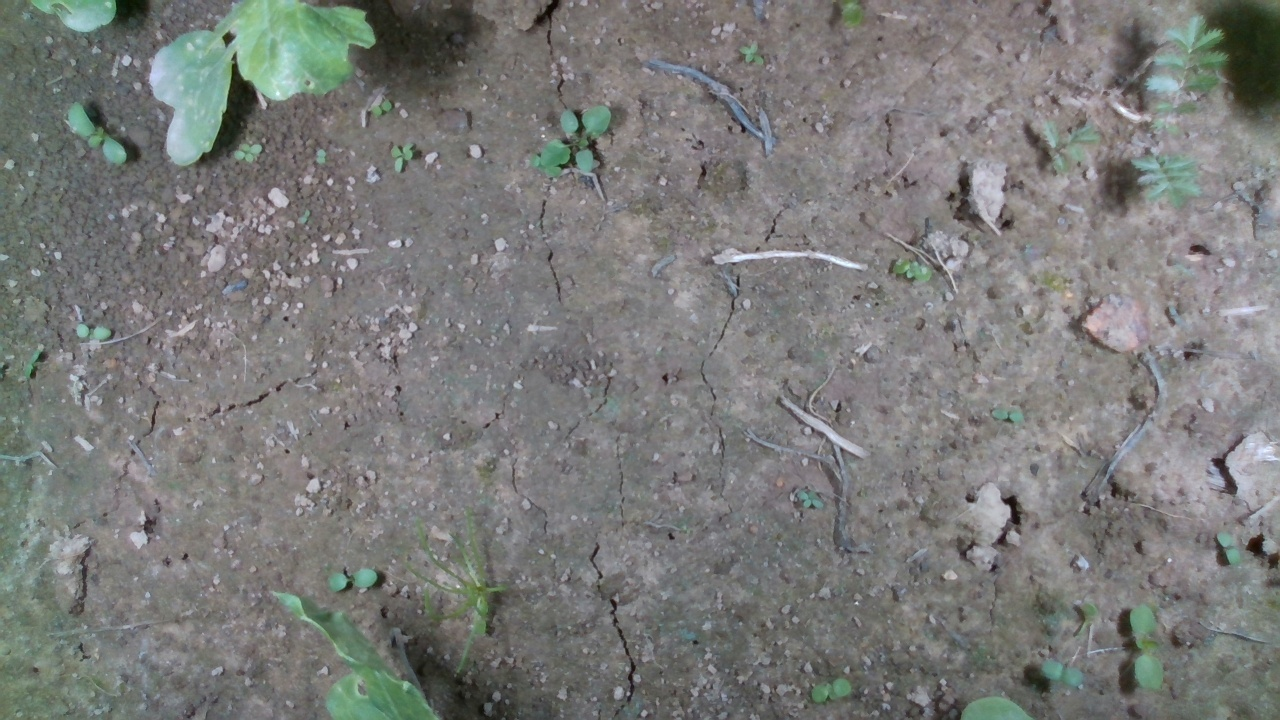weed: (62, 100, 133, 166), (384, 140, 417, 174)
